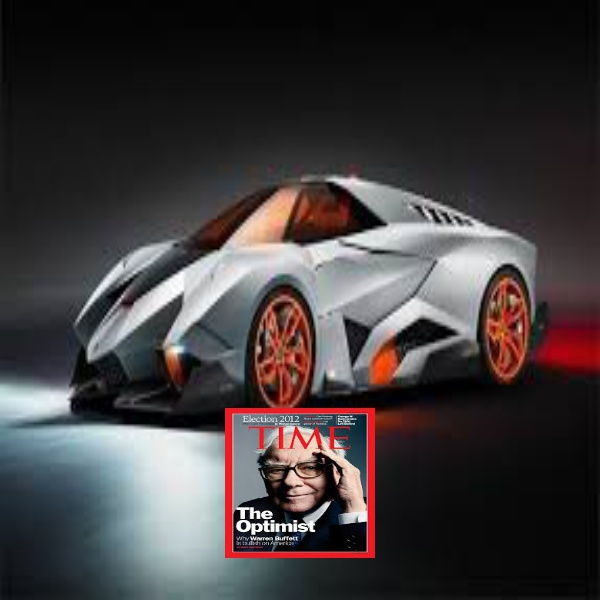time_cover: (218, 393, 382, 565)
